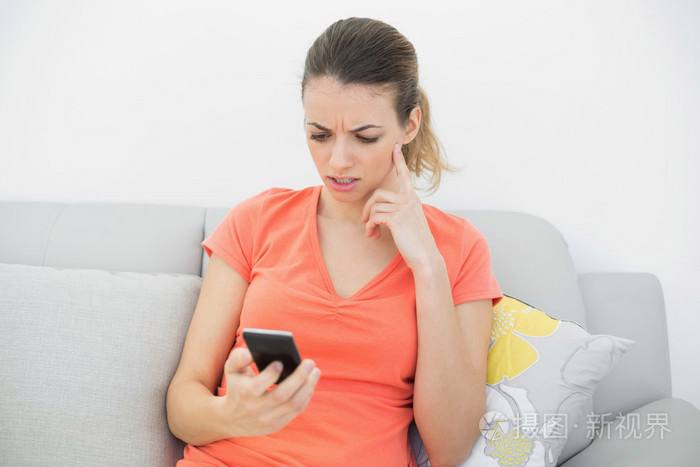reading: (218, 325, 323, 442)
